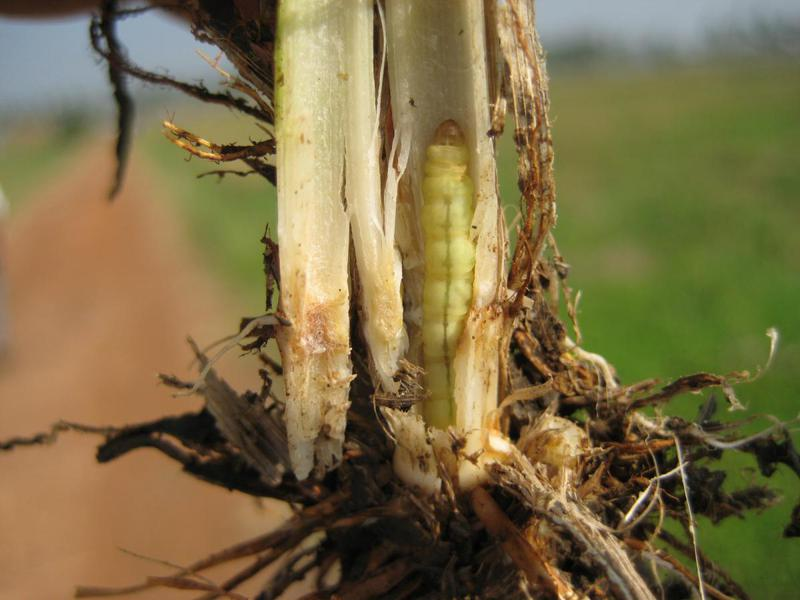Rice_skipper: (396, 115, 515, 461)
